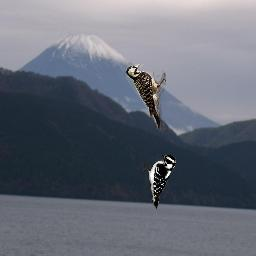Woodpecker: (126, 64, 166, 132), (143, 155, 176, 210)
